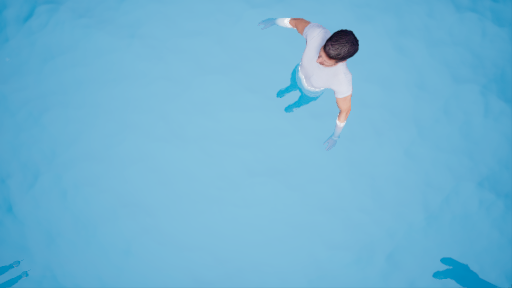person: (255, 14, 375, 149)
